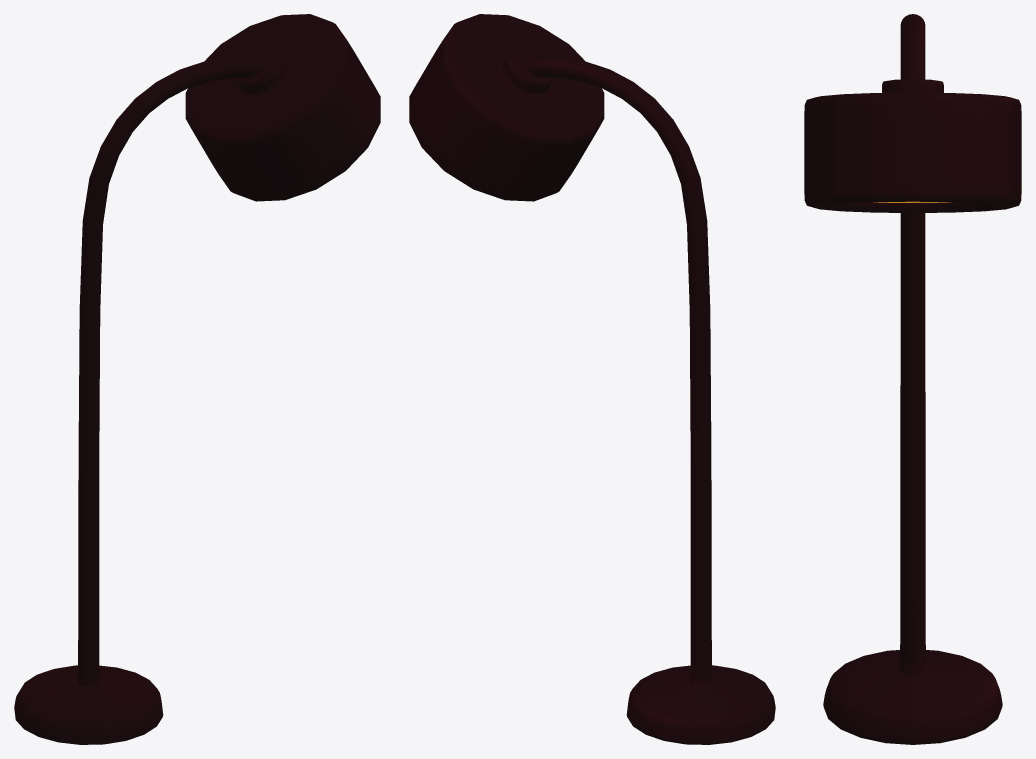
File: lamp.glb
The picture shows the model from 3 angles, left to right: view 1: azimuth 30°, elevation 25°; view 2: azimuth 150°, elevation 25°; view 3: azimuth 270°, elevation 25°; orthographic projection. The views are drawn at different scales.
Visible parts, largest first — view 1: room2_stand_big; view 2: room2_stand_big; view 3: room2_stand_big.
Part boxes in pixels (x1,y1,x2,y2): room2_stand_big: (14,14,380,744); room2_stand_big: (409,14,775,744); room2_stand_big: (804,14,1021,744).
Size of the model in its own units: 3.11 by 5.46 by 1.42.
Materials: 1 (1 with a texture image).
